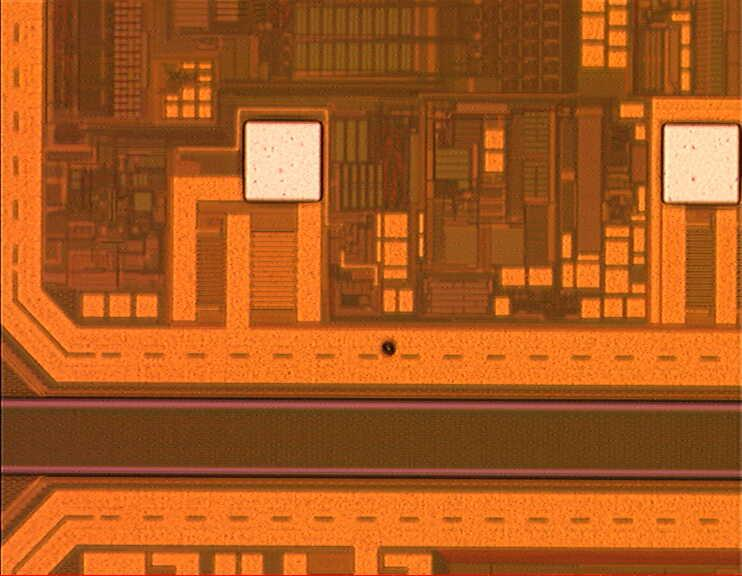PARTICLE: (377, 336, 405, 364)
